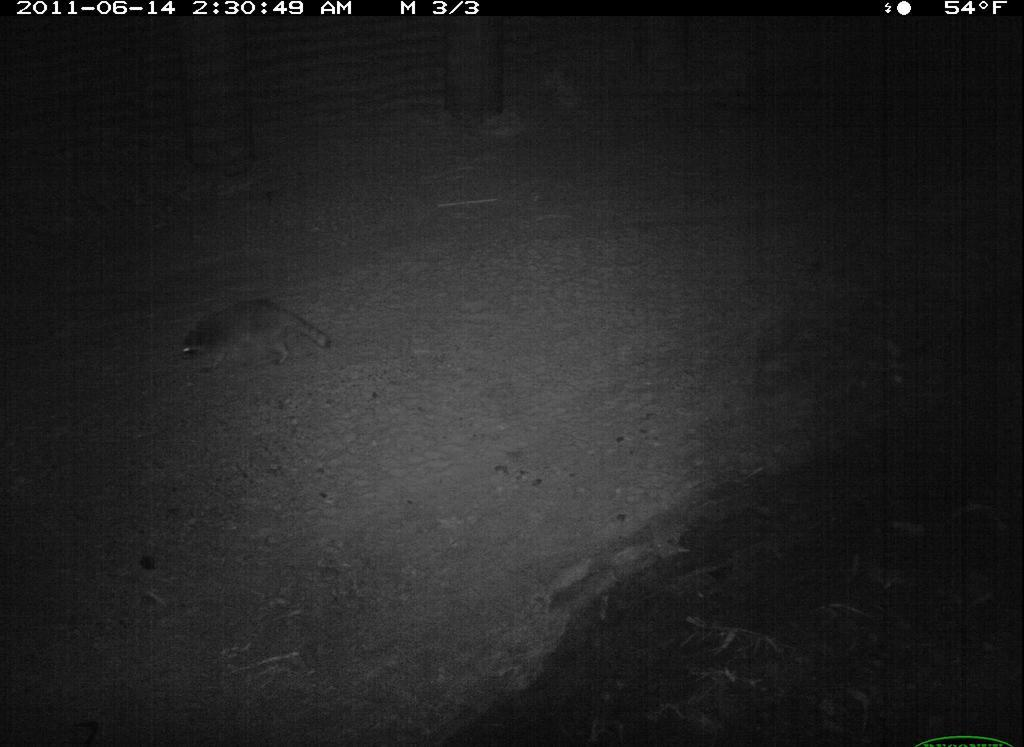raccoon: (168, 290, 344, 386)
